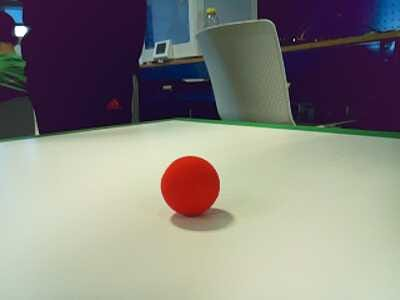bola_cerca: (158, 156, 223, 218)
